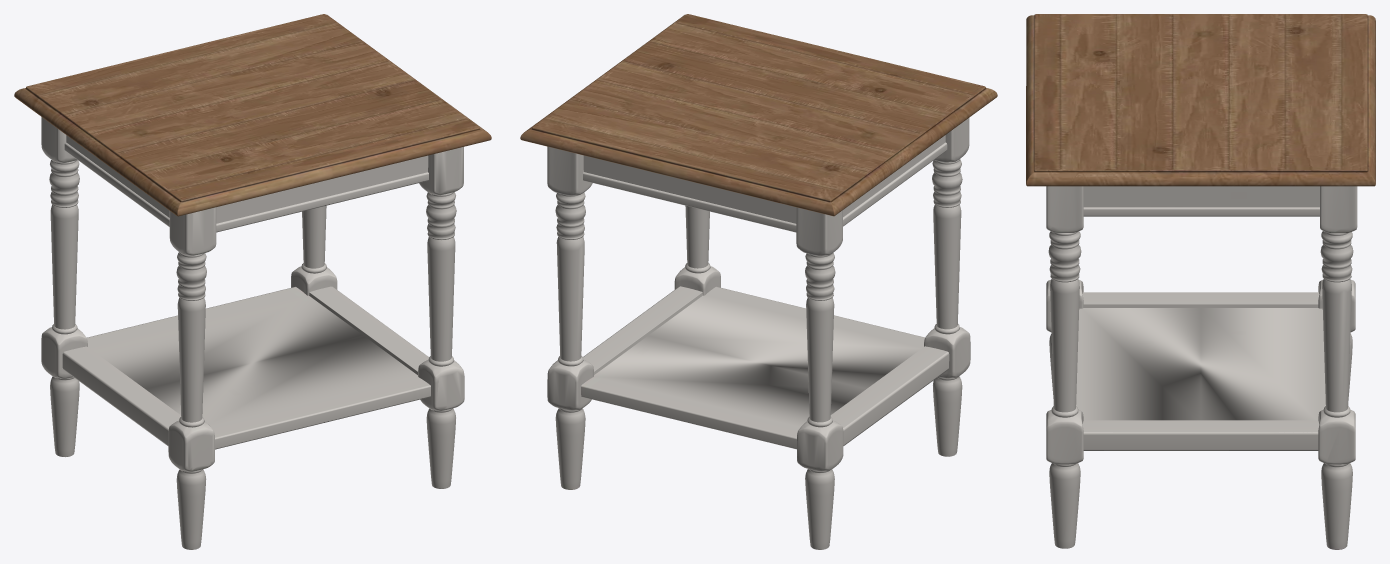
File: B07DBFQFJQ.glb
The picture shows the model from 3 angles, left to right: view 1: azimuth 30°, elevation 25°; view 2: azimuth 150°, elevation 25°; view 3: azimuth 270°, elevation 25°; orthographic projection. The views are drawn at different scales.
Parts seen in each view (by area): view 1: RootNode; view 2: RootNode; view 3: RootNode.
Part boxes in pixels (bbox=[...]): RootNode: bbox=[14, 14, 491, 549]; RootNode: bbox=[520, 14, 997, 549]; RootNode: bbox=[1026, 14, 1375, 549].
Bounding box in the file's own units: 0.5083 × 0.5611 × 0.4574.
Materials: 1 (1 with a texture image).
